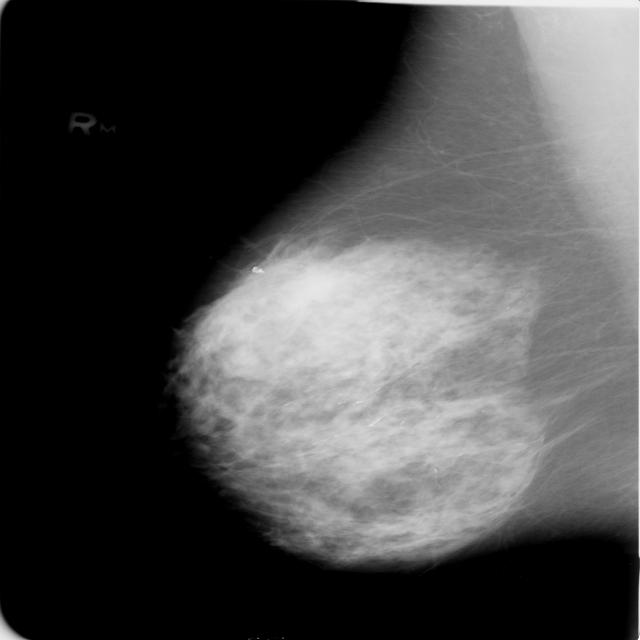cancer: (208, 252, 541, 557)
